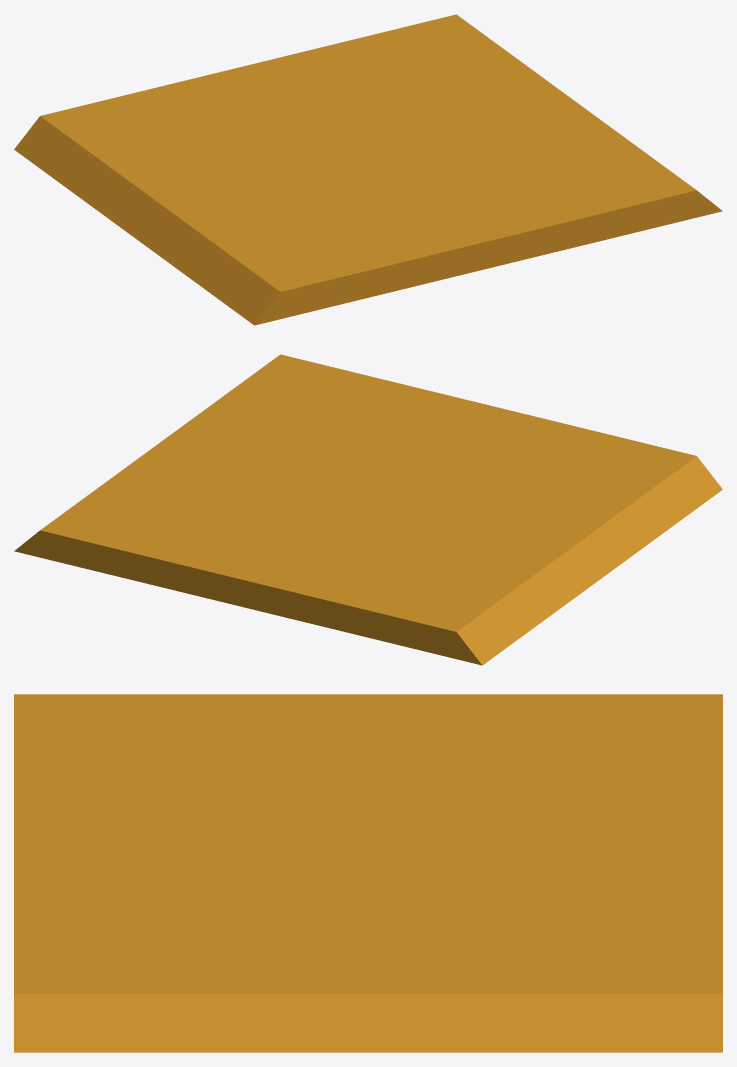
File: Roof-Eaves-4x4-Side-by-Side.FBX
3 renders of one model, top to bottom at view 1: azimuth 30°, elevation 25°; view 2: azimuth 150°, elevation 25°; view 3: azimuth 270°, elevation 25°, orthographic. The views are drawn at different scales.
Visible parts, largest first — view 1: Roof-Eaves-4x4-Side-by-Side; view 2: Roof-Eaves-4x4-Side-by-Side; view 3: Roof-Eaves-4x4-Side-by-Side.
Part boxes in pixels (x1=…): Roof-Eaves-4x4-Side-by-Side: x1=14, y1=14, x2=722, y2=325; Roof-Eaves-4x4-Side-by-Side: x1=14, y1=354, x2=722, y2=665; Roof-Eaves-4x4-Side-by-Side: x1=14, y1=694, x2=722, y2=1052.
Size of the model in its own units: 45 by 40 by 2.5.
